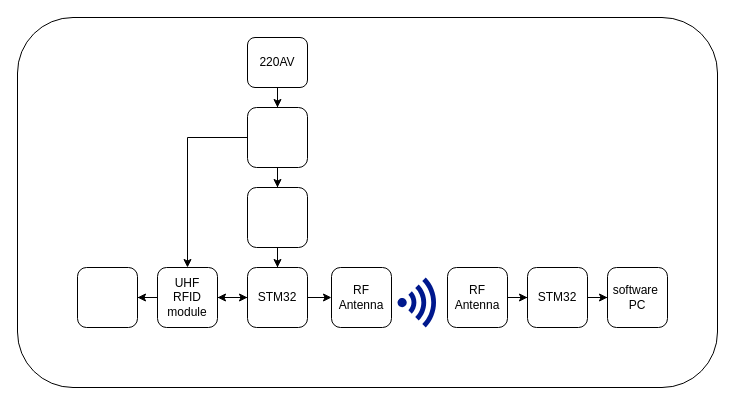
This 735x405 diagram has some shape labels left out. The centre of each missing label's shape, as x and y in pixels:
"12v" goes at [277,137].
"3v3" goes at [277,217].
"Antenna" goes at [107,297].
